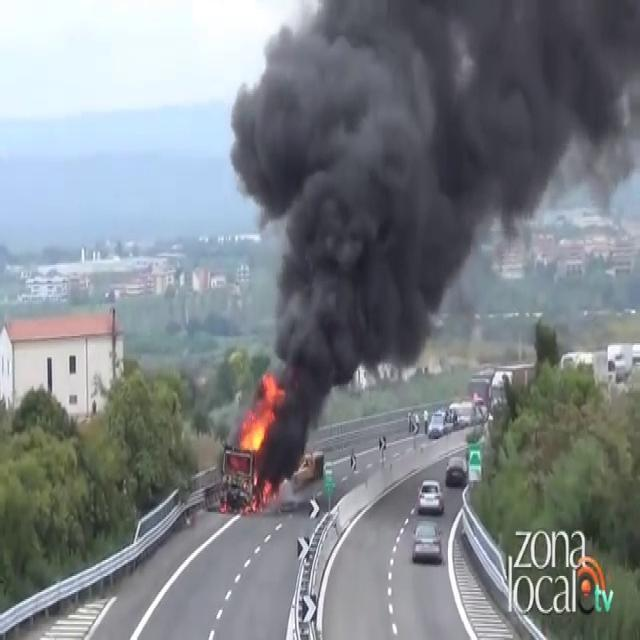Fire: (236, 384, 279, 486)
Smoke: (227, 0, 640, 437)
